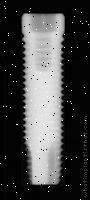Neoss: (19, 13, 65, 186)
